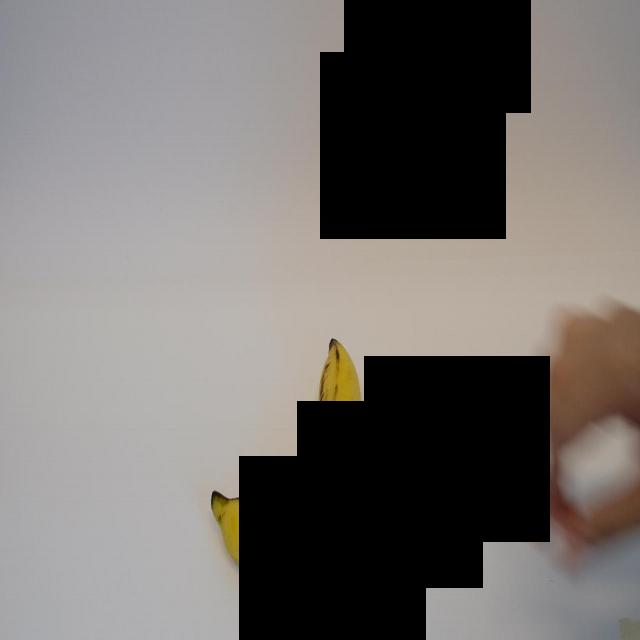banana: (210, 322, 364, 582)
